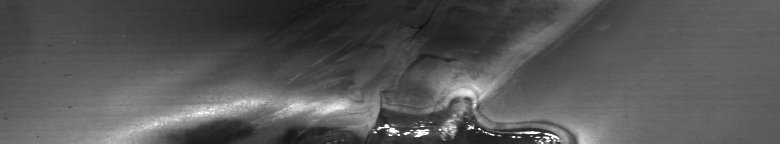ke: (136, 24, 584, 136)
